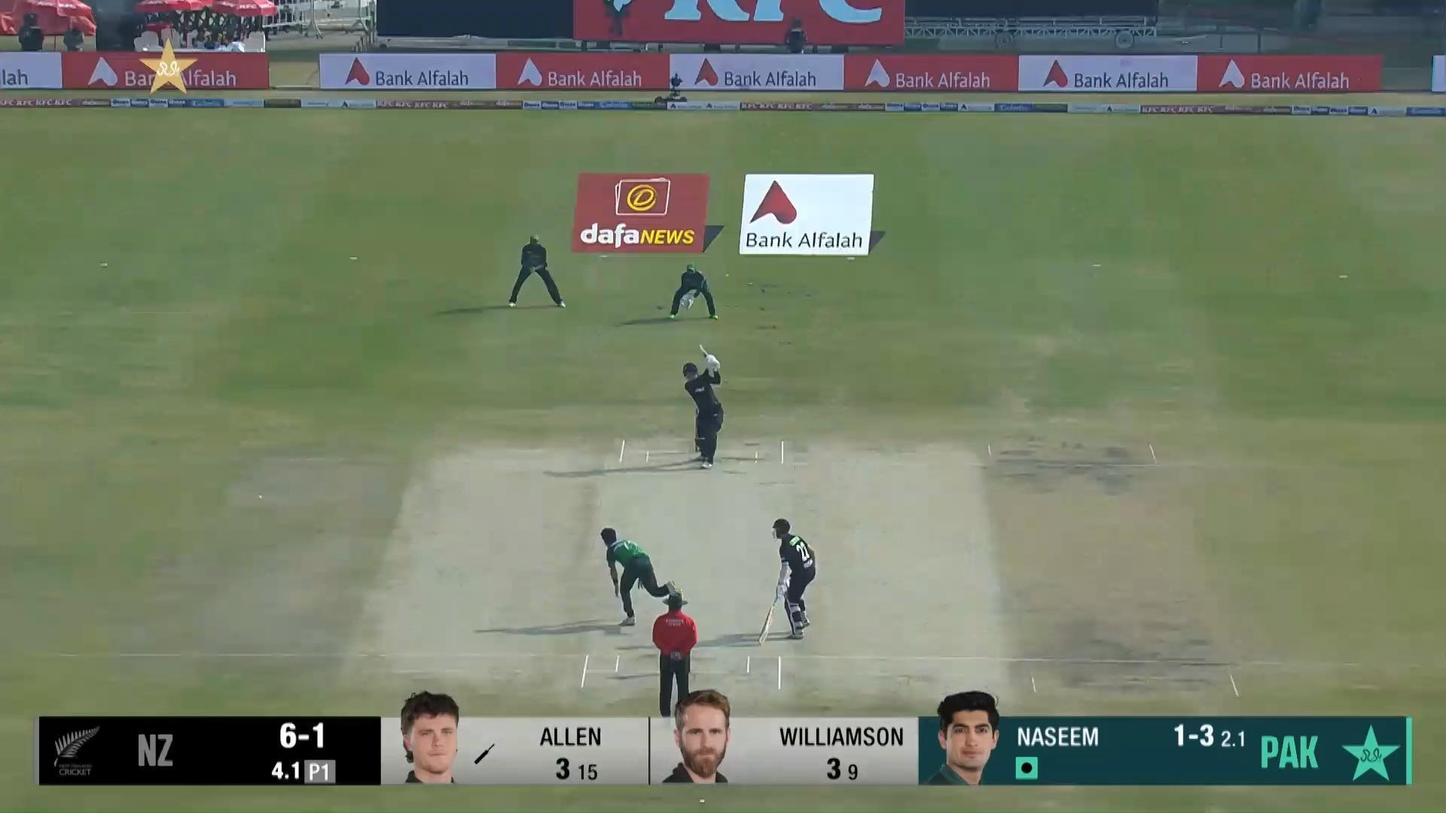BM 1: (683, 344, 724, 469)
BO: (601, 528, 683, 626)
